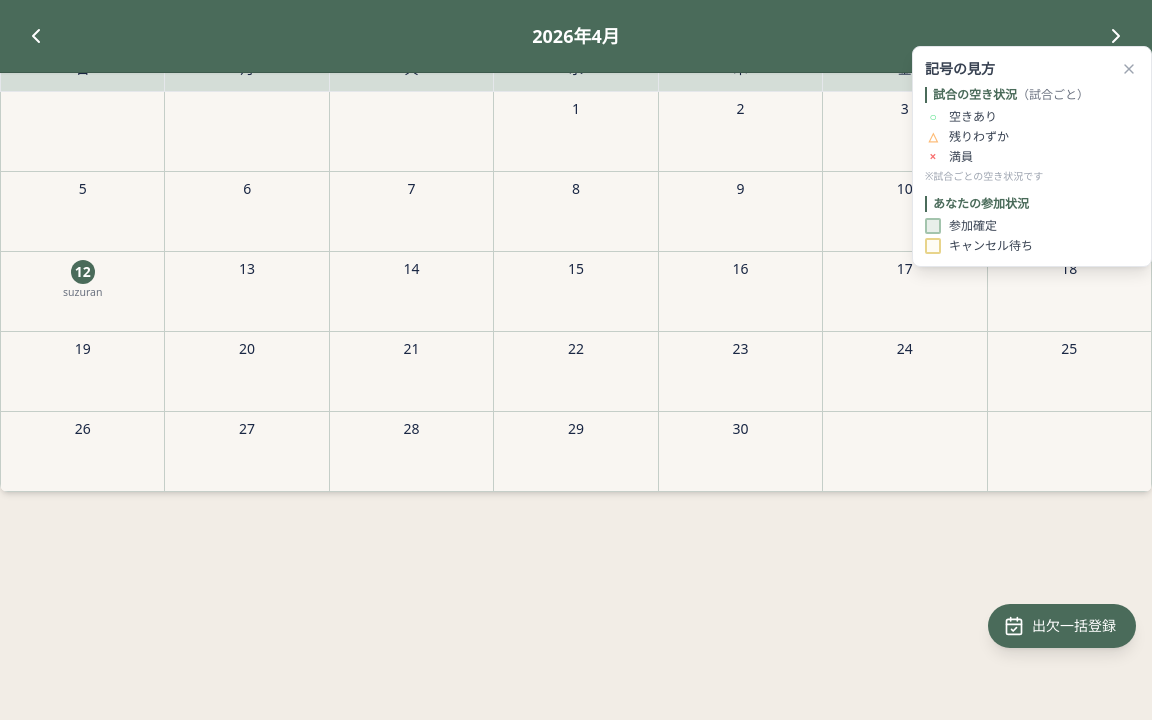
Test: adjacent room reservation proxy flow › creates a proxy session, opens the proxy view, then keeps manual confirmation available
Click the text "12" at (83, 272), box left=71, top=260, right=95, bottom=284
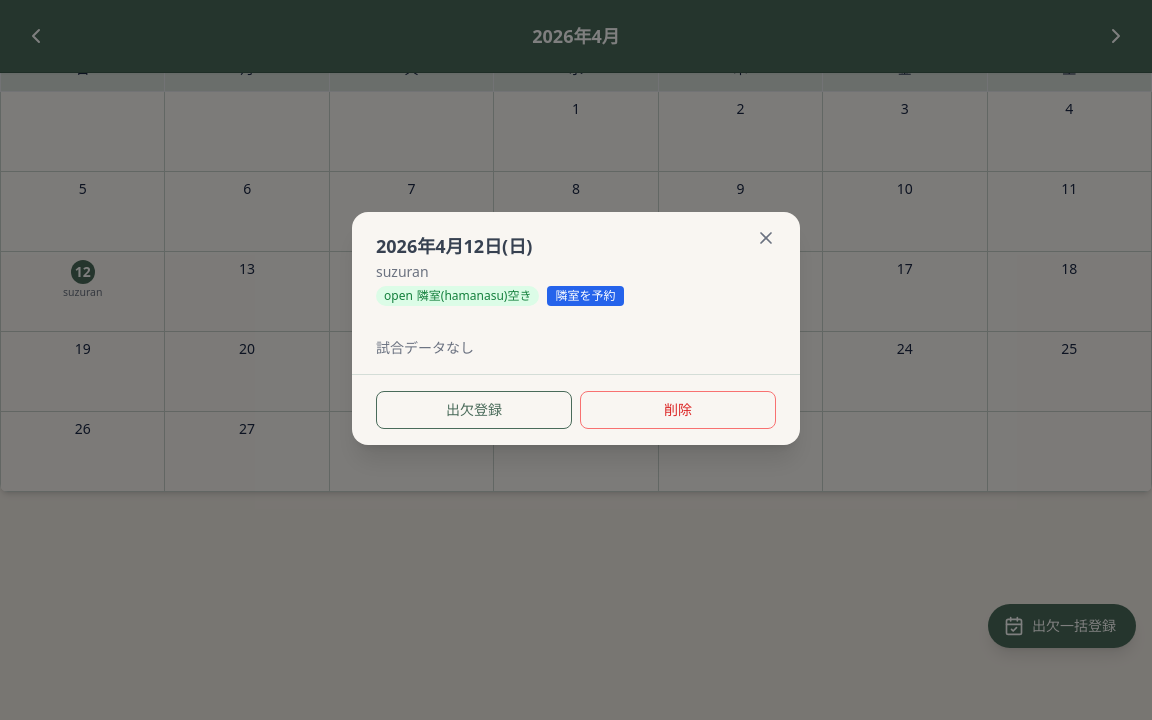
Check: the button "隣室を予約" is shown
Click the button "隣室を予約" at (586, 296), box left=548, top=286, right=624, bottom=306
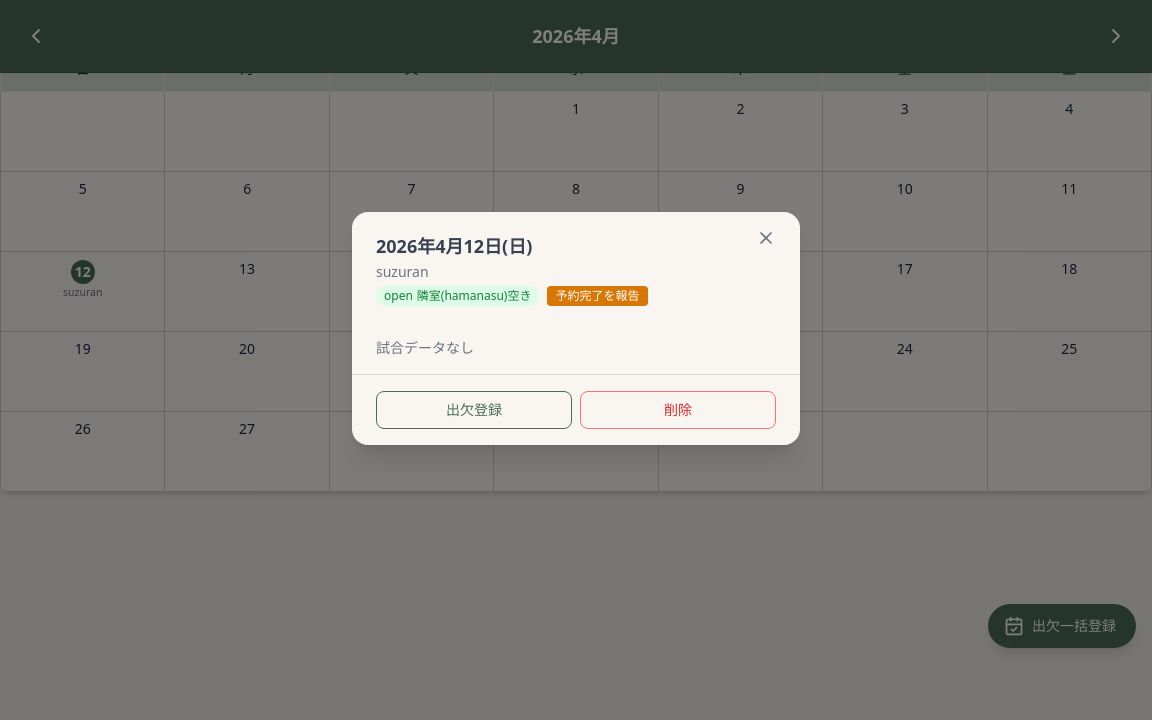
Check: the button "予約完了を報告" is shown
Click the button "予約完了を報告" at (598, 296), box left=548, top=286, right=648, bottom=306
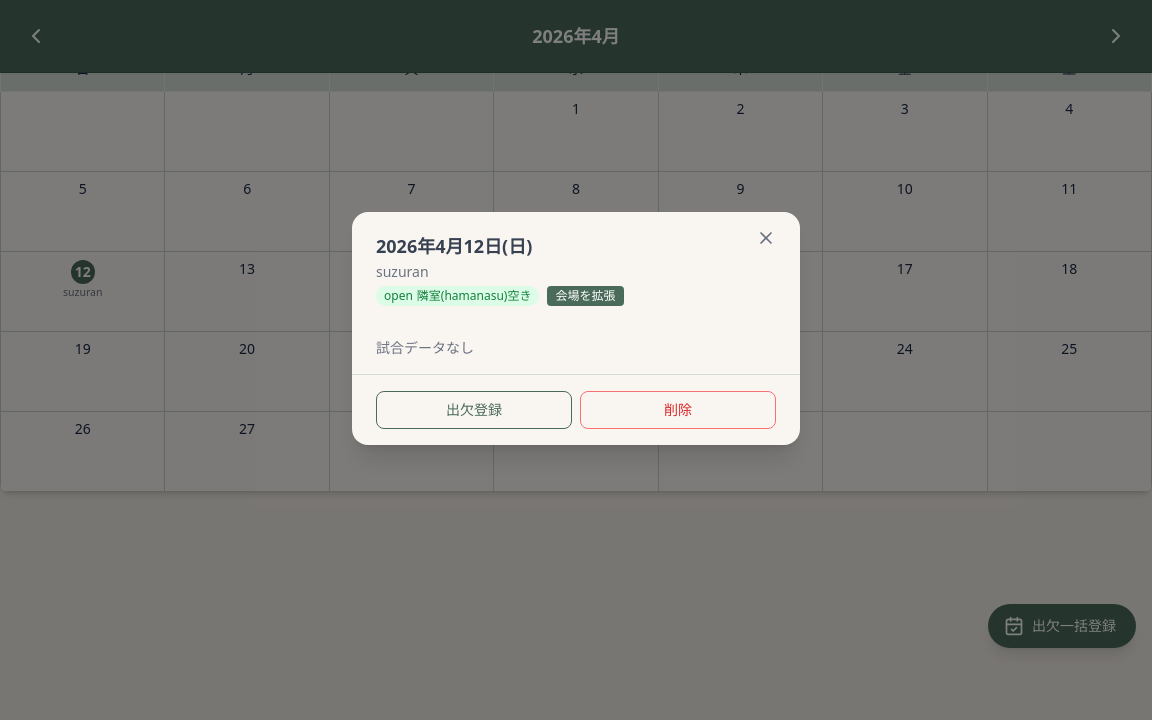
Check: the button "隣室を予約" is not shown
Check: the button "会場を拡張" is shown, box left=548, top=286, right=624, bottom=306
